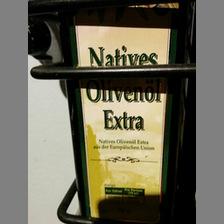oil: (59, 1, 184, 220)
